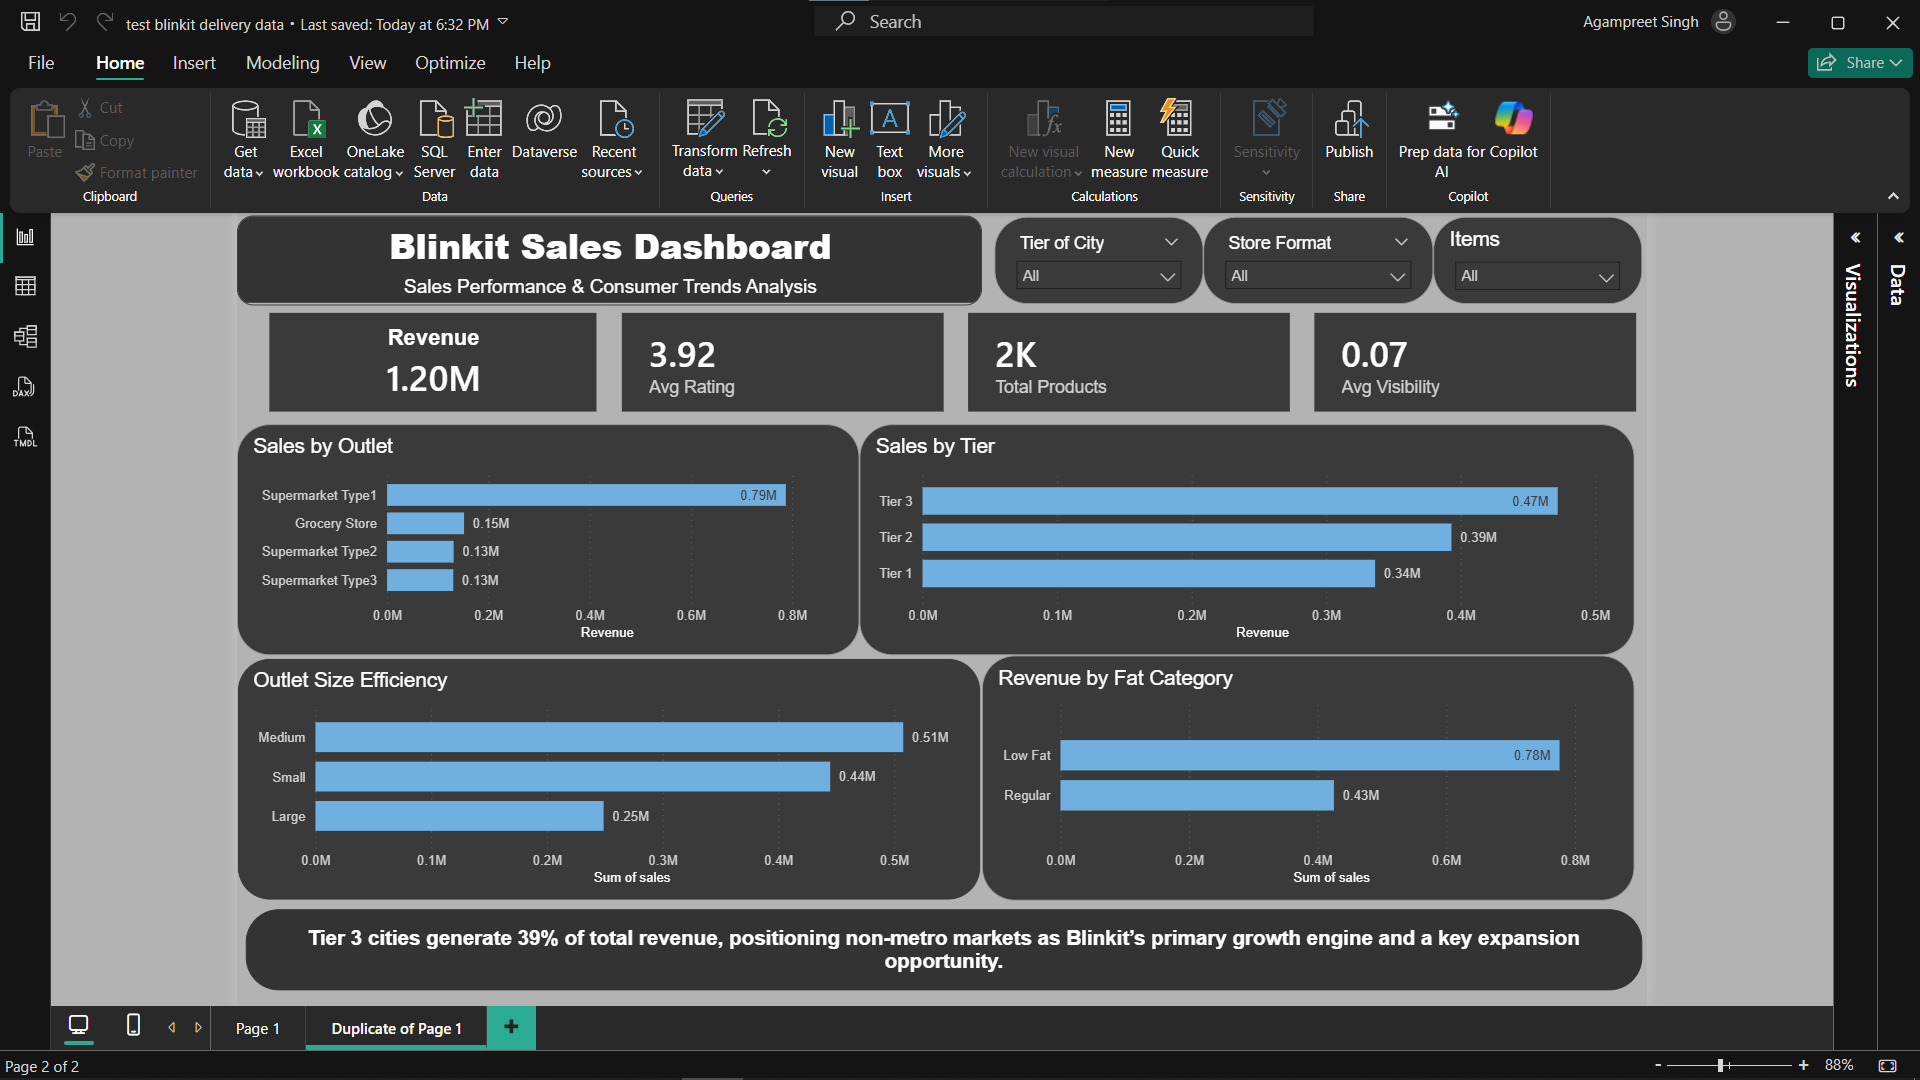

The page's visual inventory and layout, read from the dashboard file:
{"tool":"powerbi","page":{"name":"Duplicate of Page 1","canvas":[1280,720],"ordinal":1},"visuals":[{"type":"slicer","fields":{"Values":["Delivery Dataset.outlet_type"]},"box":[876.7,3.7,208.7,79.4],"z":0,"group":"g2"},{"type":"cardVisual","fields":{"Data":["Delivery Dataset.Avg Rating"]},"box":[338,79.4,314.2,112.3],"z":1000,"group":"g1"},{"type":"barChart","title":"Revenue by Fat Category","fields":{"Category":["Delivery Dataset.item_fat_content"],"Y":["Sum(Delivery Dataset.sales)"]},"box":[676,401.5,592.1,222.3],"z":1000},{"type":"cardVisual","title":"Revenue","fields":{"Data":["Delivery Dataset.Revenue"]},"box":[18.1,79.4,319.9,112.3],"z":2000},{"type":"cardVisual","fields":{"Data":["Delivery Dataset.Total Products"]},"box":[652.2,79.4,314.2,112.3],"z":2000,"group":"g1"},{"type":"cardVisual","fields":{"Data":["Delivery Dataset.Avg Visibility"]},"box":[966.4,79.4,314.2,112.3],"z":3000,"group":"g1"},{"type":"slicer","fields":{"Values":["Delivery Dataset.outlet_location_type"]},"box":[687.3,3.7,189.4,79.4],"z":4000,"group":"g2"},{"type":"slicer","title":"Items","fields":{"Values":["Delivery Dataset.item_type"]},"box":[1085.5,3.4,189.4,79.4],"z":6000,"group":"g2"},{"type":"group","id":"g1","title":"Group 1","box":[338,79.4,942.5,112.3],"z":7000},{"type":"barChart","title":"Sales by Tier","fields":{"Category":["Delivery Dataset.outlet_location_type"],"Y":["Delivery Dataset.Revenue"]},"box":[564.8,191.7,703.2,209.8],"z":7250},{"type":"clusteredBarChart","title":"Sales by Outlet","fields":{"Y":["Delivery Dataset.Total Sales"],"Category":["Delivery Dataset.outlet_type"]},"box":[0,191.7,564.8,209.8],"z":7500},{"type":"barChart","title":"Outlet Size Efficiency","fields":{"Category":["Delivery Dataset.outlet_size"],"Y":["Sum(Delivery Dataset.sales)"]},"box":[0,403.8,674.9,220],"z":8000},{"type":"textbox","title":"Tier 3 cities drive the largest revenue share, highlighting strong demand beyond metro markets.","box":[7.9,631.8,1266.9,73.7],"z":9000},{"type":"textbox","title":"Blinkit Sales Dashboard","box":[0,2.3,676,81.7],"z":10000},{"type":"group","id":"g2","title":"Group 2","box":[687.3,3.4,587.5,79.4],"z":10001}]}

Visuals, with their boxes on the page's 1280x720 design canvas (x1, y1, x2, y2). These are canvas units, not pixel positions in the 1920x1080 screenshot, which may show the page scaled, cropped or inside an application window:
slicer - Delivery Dataset.outlet_type: (877, 4, 1085, 83)
cardVisual - Delivery Dataset.Avg Rating: (338, 79, 652, 192)
"Revenue by Fat Category" barChart: (676, 402, 1268, 624)
"Revenue" cardVisual: (18, 79, 338, 192)
cardVisual - Delivery Dataset.Total Products: (652, 79, 966, 192)
cardVisual - Delivery Dataset.Avg Visibility: (966, 79, 1281, 192)
slicer - Delivery Dataset.outlet_location_type: (687, 4, 877, 83)
"Items" slicer: (1086, 3, 1275, 83)
"Group 1" group: (338, 79, 1280, 192)
"Sales by Tier" barChart: (565, 192, 1268, 402)
"Sales by Outlet" clusteredBarChart: (0, 192, 565, 402)
"Outlet Size Efficiency" barChart: (0, 404, 675, 624)
"Tier 3 cities drive the largest revenue share, highlighting strong demand beyond metro markets." textbox: (8, 632, 1275, 706)
"Blinkit Sales Dashboard" textbox: (0, 2, 676, 84)
"Group 2" group: (687, 3, 1275, 83)
